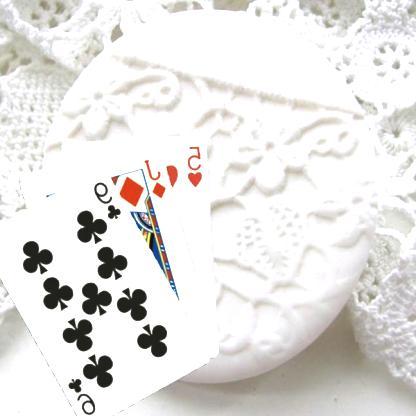5H: (187, 143, 206, 188)
9C: (92, 178, 124, 221), (67, 374, 99, 416)
JD: (143, 156, 170, 200)
